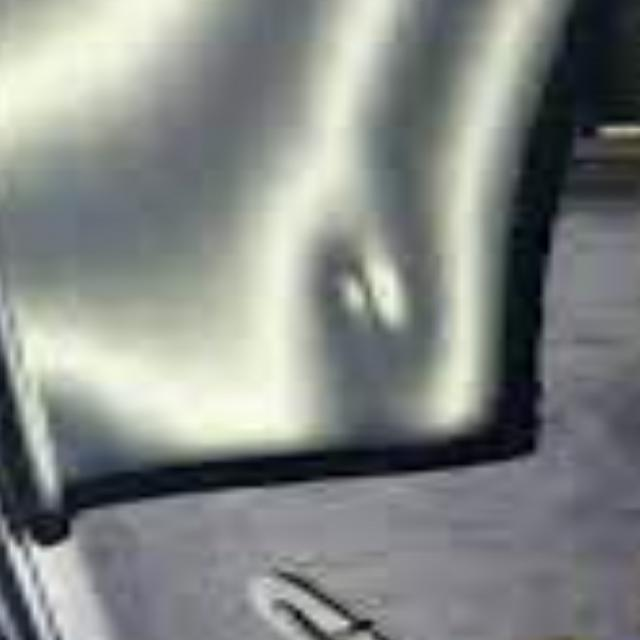dents: (288, 220, 510, 424)
